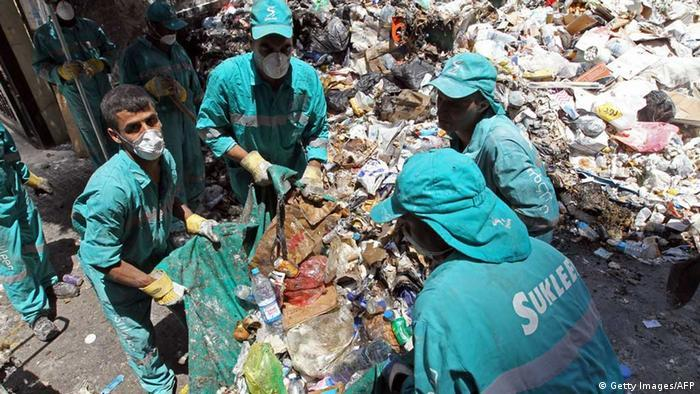garbage: (259, 0, 700, 394)
